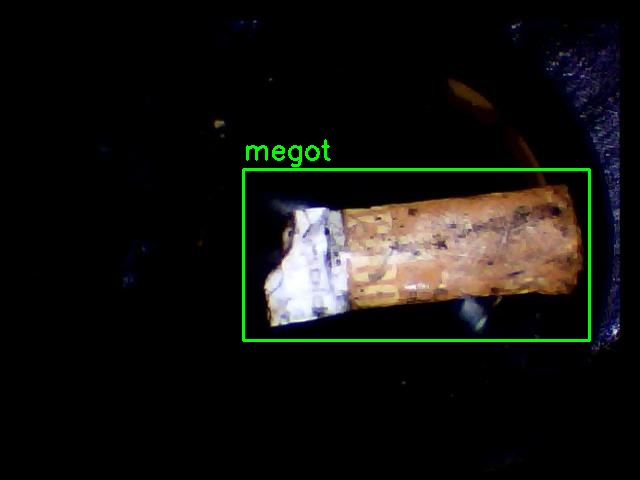megot: (243, 169, 589, 340)
